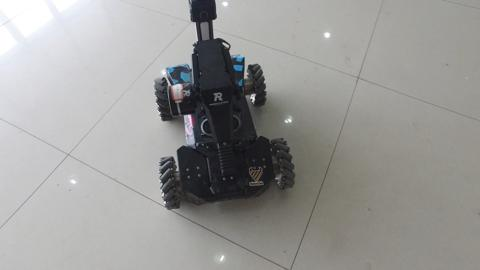chariot: (148, 4, 302, 210)
